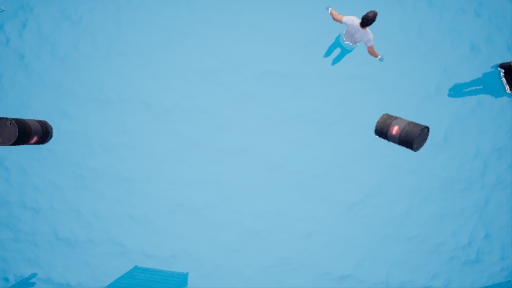person: (325, 5, 391, 74)
